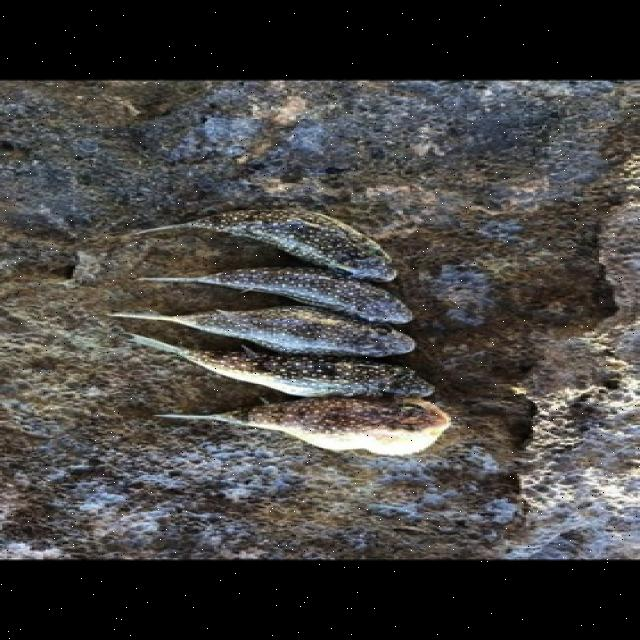Balik: (135, 210, 396, 281), (133, 335, 435, 396), (160, 397, 450, 455), (112, 306, 414, 357), (142, 268, 412, 323)
